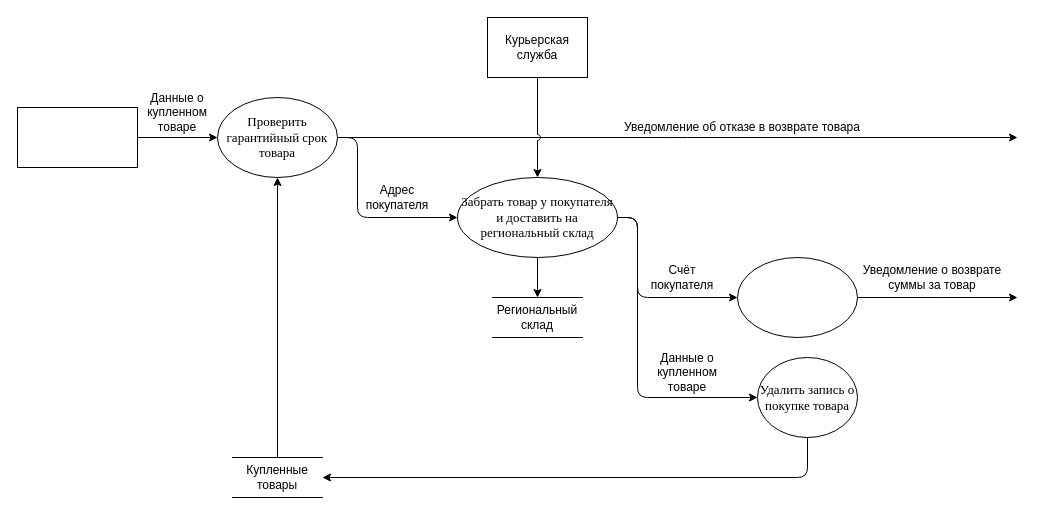
Image size: 1043x515. Some labels were removed from this diagram. The shapes that lost their labels are listed below. From the top down, each one's box as (x1, y1, x2, y2) in pixels, then its label:
(16, 106, 138, 168): Авторизованный пользователь
(736, 256, 858, 338): Перечислить на счёт покупателя возврат суммы за товар
